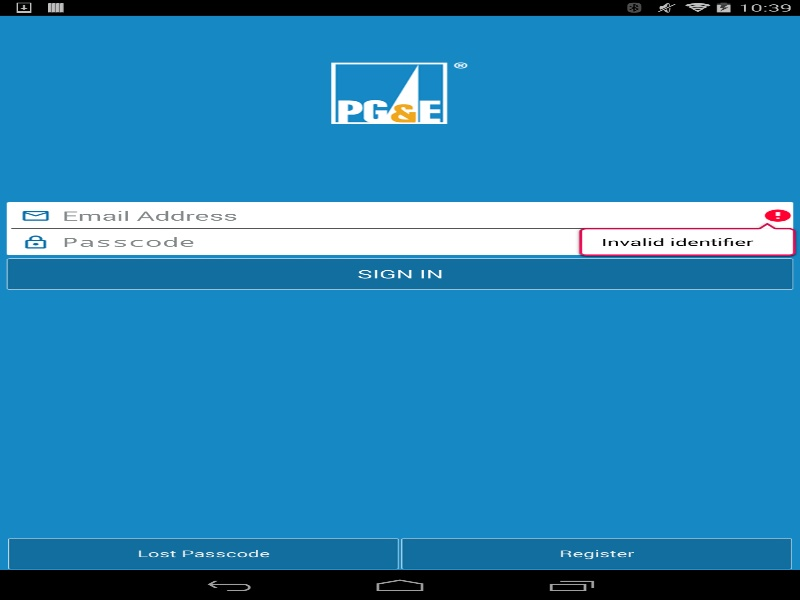Button: (6, 258, 793, 289), (401, 538, 792, 569), (8, 538, 398, 569)
Input: (62, 206, 791, 224), (62, 233, 791, 250)
